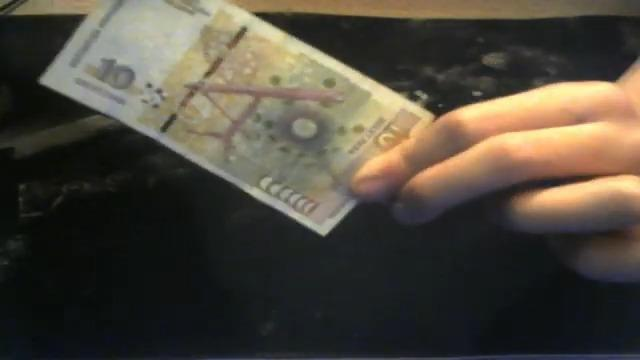10leva: (37, 0, 437, 237)
